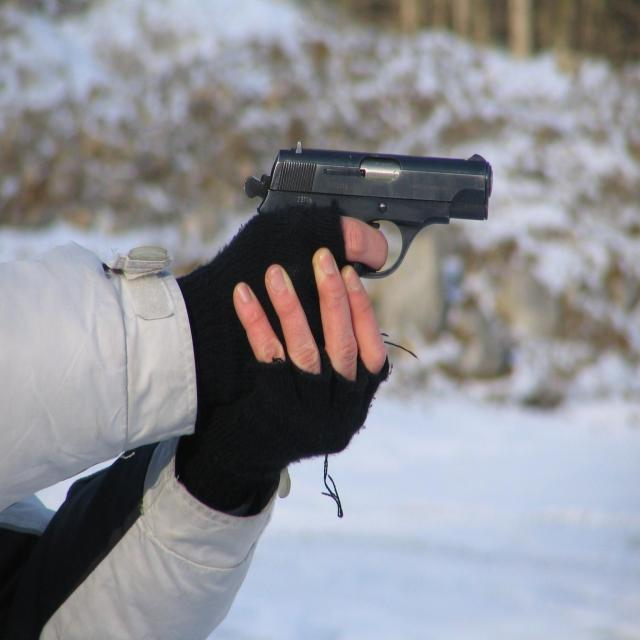pistol: (243, 141, 493, 313)
